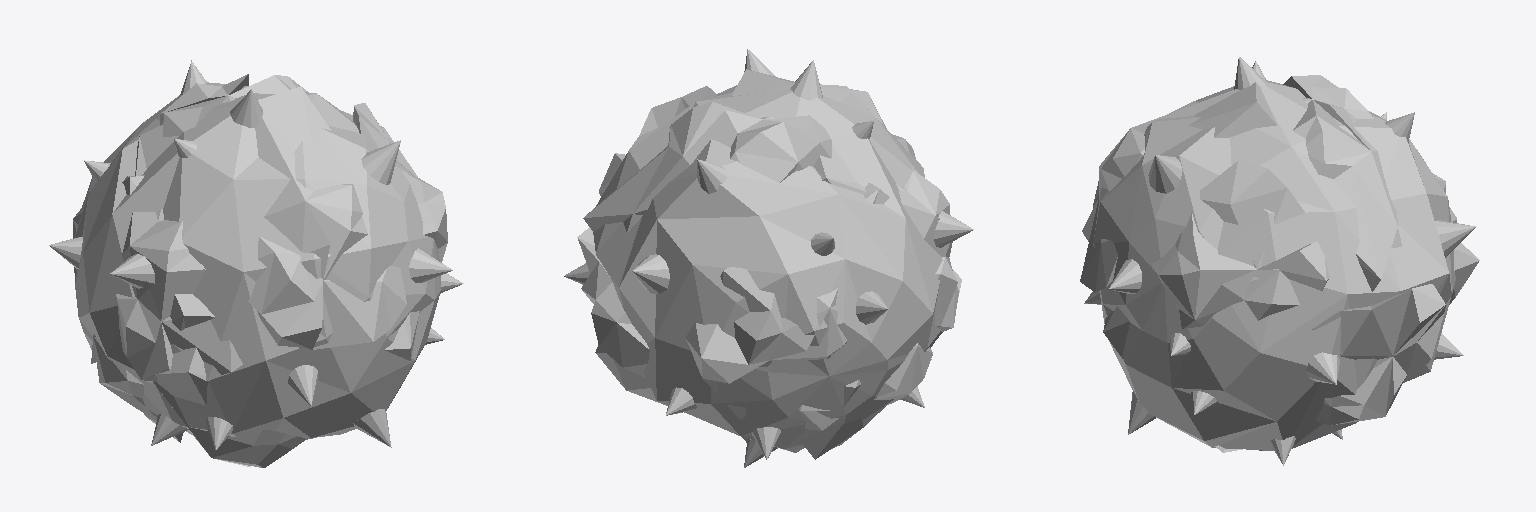
Rendered from planetSun.obj.
3 renders of one model, left to right at view 1: azimuth 30°, elevation 25°; view 2: azimuth 150°, elevation 25°; view 3: azimuth 270°, elevation 25°, orthographic.
Bounding box in the file's own units: 2.19 × 2.23 × 2.15.